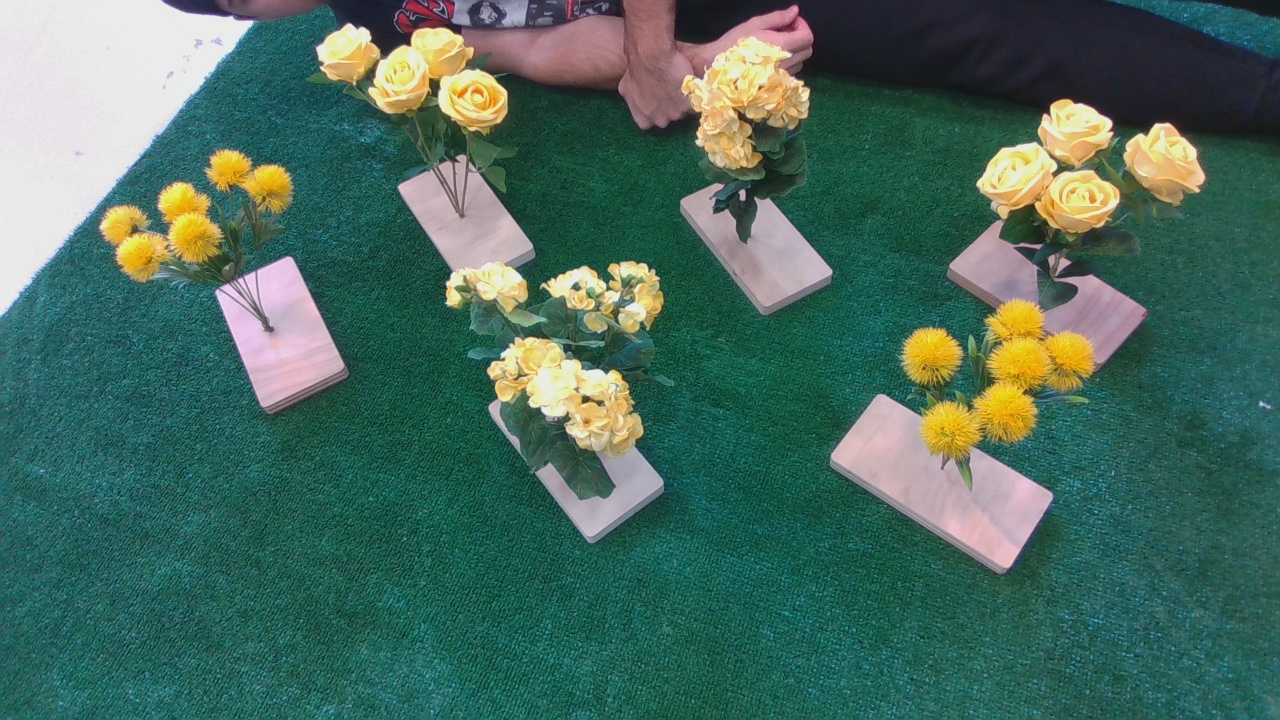dandelion: (887, 291, 1109, 471), (93, 152, 313, 309)
geranium: (439, 261, 676, 465), (683, 34, 820, 228)
rose: (979, 93, 1215, 250), (312, 19, 537, 153)
